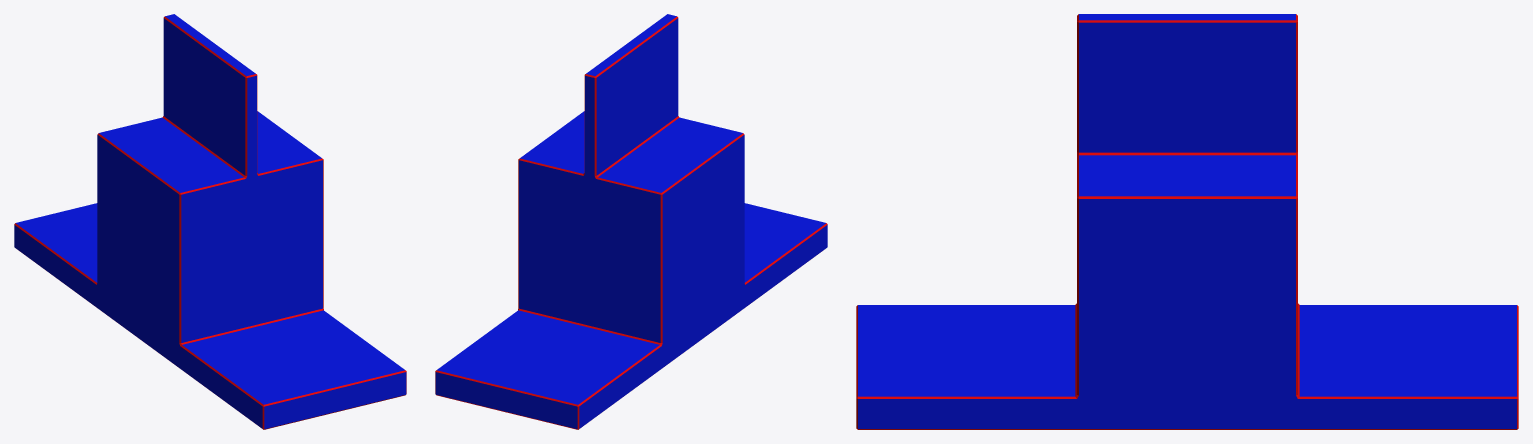
Rendered from L10_HighSpawnPlateform.fbx.
3 renders of one model, left to right at view 1: azimuth 30°, elevation 25°; view 2: azimuth 150°, elevation 25°; view 3: azimuth 270°, elevation 25°, orthographic. The views are drawn at different scales.
Parts seen in each view (by area): view 1: L10_HighSpawnPlateform; view 2: L10_HighSpawnPlateform; view 3: L10_HighSpawnPlateform.
Part boxes in pixels (box(x1,y1,x2,y2)): L10_HighSpawnPlateform: box(14, 14, 406, 429); L10_HighSpawnPlateform: box(435, 14, 827, 429); L10_HighSpawnPlateform: box(856, 14, 1518, 429).
Size of the model in its own units: 600 by 1100 by 1800.
